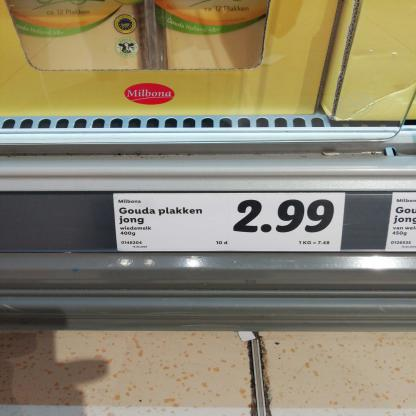prtg: (113, 194, 347, 253), (386, 193, 416, 252)
